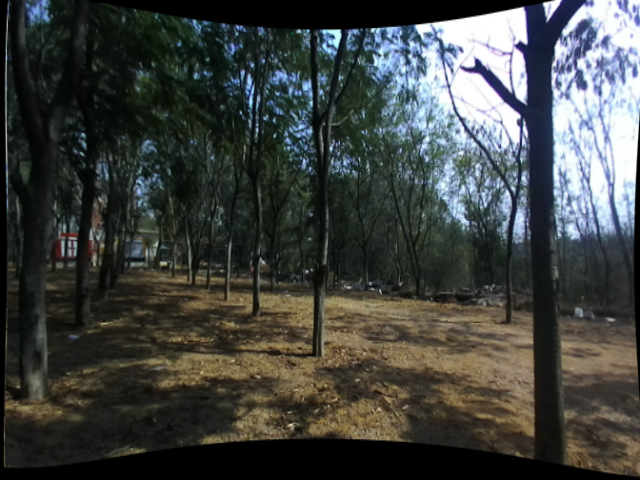tree: (489, 124, 610, 449)
